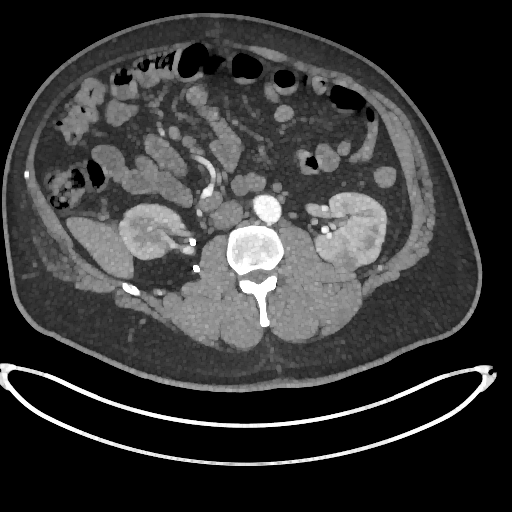Lesion: (332, 246, 360, 277)
